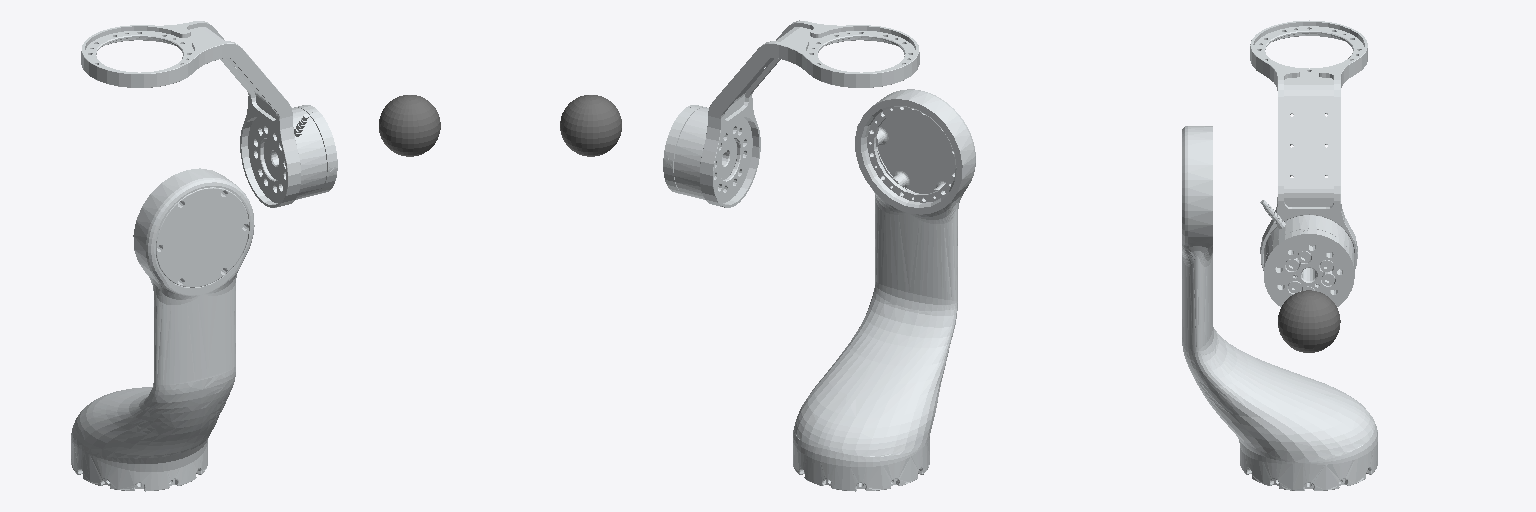
robot.urdf — armmodel:
<?xml version="1.0" encoding="utf-8"?>
<!-- This URDF was automatically created by SolidWorks to URDF Exporter! Originally created by [author] ([email redacted]) 
     Commit Version: 1.6.0-1-g15f4949  Build Version: 1.6.7594.29634
     For more information, please see http://wiki.ros.org/sw_urdf_exporter -->
<robot
  name="armmodel">
  <link
    name="base_link">
    <inertial>
      <origin
        xyz="6.6181E-05 -0.00015161 -0.19249"
        rpy="0 0 0" />
      <mass
        value="1.2116" />
      <inertia
        ixx="0.0019567"
        ixy="3.2695E-06"
        ixz="-6.4571E-07"
        iyy="0.0019617"
        iyz="-1.5111E-06"
        izz="0.0030011" />
    </inertial>
    <visual>
      <origin
        xyz="0 0 0"
        rpy="0 0 0" />
      <geometry>
        <mesh
          filename="package://armmodel/meshes/base_link.dae" />
      </geometry>
      <material
        name="">
        <color
          rgba="0.89804 0.91765 0.92941 1" />
      </material>
    </visual>
    <collision>
      <origin
        xyz="0 0 0"
        rpy="0 0 0" />
      <geometry>
        <mesh
          filename="package://armmodel/meshes/base_link.dae" />
      </geometry>
    </collision>
  </link>
  <link
    name="link1">
    <inertial>
      <origin
        xyz="7.2718E-05 -0.029092 -0.030082"
        rpy="0 0 0" />
      <mass
        value="1.3993" />
      <inertia
        ixx="0.0039418"
        ixy="-1.3252E-07"
        ixz="1.2424E-06"
        iyy="0.0042042"
        iyz="0.0010239"
        izz="0.0027112" />
    </inertial>
    <visual>
      <origin
        xyz="0 0 0"
        rpy="0 0 0" />
      <geometry>
        <mesh
          filename="package://armmodel/meshes/link1.dae" />
      </geometry>
      <material
        name="">
        <color
          rgba="0.89804 0.91765 0.92941 1" />
      </material>
    </visual>
    <collision>
      <origin
        xyz="0 0 0"
        rpy="0 0 0" />
      <geometry>
        <mesh
          filename="package://armmodel/meshes/link1.dae" />
      </geometry>
    </collision>
  </link>
  <joint
    name="armjoint1"
    type="revolute">
    <origin
      xyz="0 0 0"
      rpy="0 0 0" />
    <parent
      link="base_link" />
    <child
      link="link1" />
    <axis
      xyz="0 0 1" />
    <limit
      lower="-2.967"
      upper="2.967"
      effort="0"
      velocity="0" />
  </joint>
  <link
    name="link2">
    <inertial>
      <origin
        xyz="3.216E-05 0.11921 -0.01045"
        rpy="0 0 0" />
      <mass
        value="1.4639" />
      <inertia
        ixx="0.0063672"
        ixy="-4.7491E-07"
        ixz="7.5063E-07"
        iyy="0.0026746"
        iyz="-0.00050689"
        izz="0.0069259" />
    </inertial>
    <visual>
      <origin
        xyz="0 0 0"
        rpy="0 0 0" />
      <geometry>
        <mesh
          filename="package://armmodel/meshes/link2.dae" />
      </geometry>
      <material
        name="">
        <color
          rgba="0.89804 0.91765 0.92941 1" />
      </material>
    </visual>
    <collision>
      <origin
        xyz="0 0 0"
        rpy="0 0 0" />
      <geometry>
        <mesh
          filename="package://armmodel/meshes/link2.dae" />
      </geometry>
    </collision>
  </link>
  <joint
    name="armjoint2"
    type="revolute">
    <origin
      xyz="0 0 0"
      rpy="1.5708 0 0" />
    <parent
      link="link1" />
    <child
      link="link2" />
    <axis
      xyz="0 0 1" />
    <limit
      lower="-2.094"
      upper="2.094"
      effort="0"
      velocity="0" />
  </joint>
  <link
    name="link3">
    <inertial>
      <origin
        xyz="0.019368 -0.020584 -0.051775"
        rpy="0 0 0" />
      <mass
        value="1.1787" />
      <inertia
        ixx="0.005941"
        ixy="7.5907E-05"
        ixz="-0.00070134"
        iyy="0.0064945"
        iyz="0.00076789"
        izz="0.0019242" />
    </inertial>
    <visual>
      <origin
        xyz="0 0 0"
        rpy="0 0 0" />
      <geometry>
        <mesh
          filename="package://armmodel/meshes/link3.dae" />
      </geometry>
      <material
        name="">
        <color
          rgba="0.89804 0.91765 0.92941 1" />
      </material>
    </visual>
    <collision>
      <origin
        xyz="0 0 0"
        rpy="0 0 0" />
      <geometry>
        <mesh
          filename="package://armmodel/meshes/link3.dae" />
      </geometry>
    </collision>
  </link>
  <joint
    name="armjoint3"
    type="revolute">
    <origin
      xyz="0 0.4495 0"
      rpy="-1.5708 0 0" />
    <parent
      link="link2" />
    <child
      link="link3" />
    <axis
      xyz="0 0 1" />
    <limit
      lower="-2.967"
      upper="2.967"
      effort="0"
      velocity="0" />
  </joint>
  <link
    name="link4">
    <inertial>
      <origin
        xyz="-0.023047 0.13103 -0.017911"
        rpy="0 0 0" />
      <mass
        value="0.94956" />
      <inertia
        ixx="0.0051402"
        ixy="0.00052455"
        ixz="9.256E-05"
        iyy="0.0014794"
        iyz="-0.00088944"
        izz="0.0053194" />
    </inertial>
    <visual>
      <origin
        xyz="0 0 0"
        rpy="0 0 0" />
      <geometry>
        <mesh
          filename="package://armmodel/meshes/link4.dae" />
      </geometry>
      <material
        name="">
        <color
          rgba="0.89804 0.91765 0.92941 1" />
      </material>
    </visual>
    <collision>
      <origin
        xyz="0 0 0"
        rpy="0 0 0" />
      <geometry>
        <mesh
          filename="package://armmodel/meshes/link4.dae" />
      </geometry>
    </collision>
  </link>
  <joint
    name="armjoint4"
    type="revolute">
    <origin
      xyz="0.03 0 0"
      rpy="1.5708 0 0" />
    <parent
      link="link3" />
    <child
      link="link4" />
    <axis
      xyz="0 0 1" />
    <limit
      lower="-2.792"
      upper="2.094"
      effort="0"
      velocity="0" />
  </joint>
  <link
    name="link5">
    <inertial>
      <origin
        xyz="1.8693E-05 -0.041402 -0.10398"
        rpy="0 0 0" />
      <mass
        value="0.3347" />
      <inertia
        ixx="0.0018739"
        ixy="-4.1119E-08"
        ixz="1.694E-07"
        iyy="0.0016304"
        iyz="0.00057017"
        izz="0.00062971" />
    </inertial>
    <visual>
      <origin
        xyz="0 0 0"
        rpy="0 0 0" />
      <geometry>
        <mesh
          filename="package://armmodel/meshes/link5.dae" />
      </geometry>
      <material
        name="">
        <color
          rgba="0.89804 0.91765 0.92941 1" />
      </material>
    </visual>
    <collision>
      <origin
        xyz="0 0 0"
        rpy="0 0 0" />
      <geometry>
        <mesh
          filename="package://armmodel/meshes/link5.dae" />
      </geometry>
    </collision>
  </link>
  <joint
    name="armjoint5"
    type="revolute">
    <origin
      xyz="-0.03 0.4495 0"
      rpy="-1.5708 0 0" />
    <parent
      link="link4" />
    <child
      link="link5" />
    <axis
      xyz="0 0 1" />
    <limit
      lower="-2.967"
      upper="2.967"
      effort="0"
      velocity="0" />
  </joint>
  <link
    name="link6">
    <inertial>
      <origin
        xyz="0.00031073 0.011805 -0.00086368"
        rpy="0 0 0" />
      <mass
        value="0.94596" />
      <inertia
        ixx="0.0010467"
        ixy="4.7917E-06"
        ixz="-8.4956E-06"
        iyy="0.00080867"
        iyz="5.2641E-05"
        izz="0.0008319" />
    </inertial>
    <visual>
      <origin
        xyz="0 0 0"
        rpy="0 0 0" />
      <geometry>
        <mesh
          filename="package://armmodel/meshes/link6.dae" />
      </geometry>
      <material
        name="">
        <color
          rgba="1 1 1 1" />
      </material>
    </visual>
    <collision>
      <origin
        xyz="0 0 0"
        rpy="0 0 0" />
      <geometry>
        <mesh
          filename="package://armmodel/meshes/link6.dae" />
      </geometry>
    </collision>
  </link>
  <joint
    name="armjoint6"
    type="revolute">
    <origin
      xyz="0 0 0"
      rpy="1.5708 0 0" />
    <parent
      link="link5" />
    <child
      link="link6" />
    <axis
      xyz="0 0 1" />
    <limit
      lower="-2.181"
      upper="2.181"
      effort="0"
      velocity="0" />
  </joint>
  <link
    name="link7">
    <inertial>
      <origin
        xyz="-0.083613 3.7165E-05 0.03637"
        rpy="0 0 0" />
      <mass
        value="0.18598" />
      <inertia
        ixx="0.00023579"
        ixy="-4.8742E-08"
        ixz="-0.00012561"
        iyy="0.00035441"
        iyz="-2.3106E-07"
        izz="0.00021991" />
    </inertial>
    <visual>
      <origin
        xyz="0 0 0"
        rpy="3.1416 0 0" />
      <geometry>
        <mesh
          filename="package://armmodel/meshes/link7.dae" />
      </geometry>
      <material
        name="">
        <color
          rgba="0.89804 0.91765 0.92941 1" />
      </material>
    </visual>
    <collision>
      <origin
        xyz="0 0 0"
        rpy="0 0 0" />
      <geometry>
        <mesh
          filename="package://armmodel/meshes/link7.dae" />
      </geometry>
    </collision>
  </link>
  <joint
    name="armjoint7"
    type="revolute">
    <origin
      xyz="0 0 0"
      rpy="-1.5708 0 3.1416" />
    <parent
      link="link6" />
    <child
      link="link7" />
    <axis
      xyz="0 0 -1" />
    <limit
      lower="-2.967"
      upper="2.967"
      effort="0"
      velocity="0" />
  </joint>





  <link name="link8">
    <inertial>
      <origin
        xyz="-0.083613 3.7165E-05 0.03637"
        rpy="0 0 0" />
      <mass
        value="0.18598" />
      <inertia
        ixx="0.00023579"
        ixy="-4.8742E-08"
        ixz="-0.00012561"
        iyy="0.00035441"
        iyz="-2.3106E-07"
        izz="0.00021991" />
    </inertial>
    <visual>
      <origin
        xyz="0 0 0"
        rpy="0 0 0" />
      <geometry>
        <sphere  radius="0.02"/>
      </geometry>
      <material
        name="">
        <color
          rgba="0.5 0.5 0.5 1" />
      </material>
    </visual>
    <collision>
      <origin
        xyz="0 0 0"
        rpy="0 0 0" />
      <geometry>
        <sphere  radius="0.02"/>
      </geometry>
    </collision>
  </link>

  <joint
    name="armjoint8"
    type="revolute">
    <origin
      xyz="-0.20 0 0"
      rpy="0 3.1416 0" />
    <parent
      link="link7" />
    <child
      link="link8" />
    <axis
      xyz="1 0 0" />
    <limit
      lower="-2.967"
      upper="2.967"
      effort="0"
      velocity="0" />
  </joint>

  <link name="link9">
    <inertial>
      <origin
        xyz="-0.083613 3.7165E-05 0.03637"
        rpy="0 0 0" />
      <mass
        value="0.18598" />
      <inertia
        ixx="0.00023579"
        ixy="-4.8742E-08"
        ixz="-0.00012561"
        iyy="0.00035441"
        iyz="-2.3106E-07"
        izz="0.00021991" />
    </inertial>
    <visual>
      <origin
        xyz="0 0 0"
        rpy="0 0 0" />
      <geometry>
        <sphere  radius="0.02"/>
      </geometry>
      <material
        name="">
        <color
          rgba="0.5 0.5 0.5 1" />
      </material>
    </visual>
    <collision>
      <origin
        xyz="0 0 0"
        rpy="0 0 0" />
      <geometry>
        <sphere  radius="0.02"/>
      </geometry>
    </collision>
  </link>

  <joint
    name="armjoint9"
    type="fixed">
    <origin
      xyz="0 0 0"
      rpy="0 0 0" />
    <parent
      link="link8" />
    <child
      link="link9" />
    <axis
      xyz="1 0 0" />
    <limit
      lower="-2.967"
      upper="2.967"
      effort="0"
      velocity="0" />
  </joint>


</robot>

--- Render facts (derived) ---
Views: 3 orthographic renders of the robot side by side, from view 1: azimuth 30°, elevation 25°; view 2: azimuth 150°, elevation 25°; view 3: azimuth 270°, elevation 25°.
Model armmodel with 10 links and 9 joints (8 revolute, 1 fixed), rooted at base_link, posed every joint at zero.
Visible links, largest first — view 1: link5, link7, link8; view 2: link5, link7, link8; view 3: link5, link7, link8.
Boxes of the visible links, left/top/right/bottom form: link5: left=71, top=168, right=254, bottom=491; link7: left=81, top=21, right=337, bottom=207; link8: left=379, top=95, right=440, bottom=156; link5: left=793, top=89, right=975, bottom=491; link7: left=663, top=20, right=919, bottom=207; link8: left=560, top=95, right=621, bottom=156; link5: left=1182, top=126, right=1377, bottom=490; link7: left=1250, top=20, right=1367, bottom=306; link8: left=1278, top=290, right=1340, bottom=352.
Size in the robot's own frame: 0.264 by 0.125 by 0.2925 metres.
Meshes: 8 distinct files referenced, 2 mesh visuals loaded (2 Collada DAE); not drawn: 6 (reference not matched to a file when rendering).